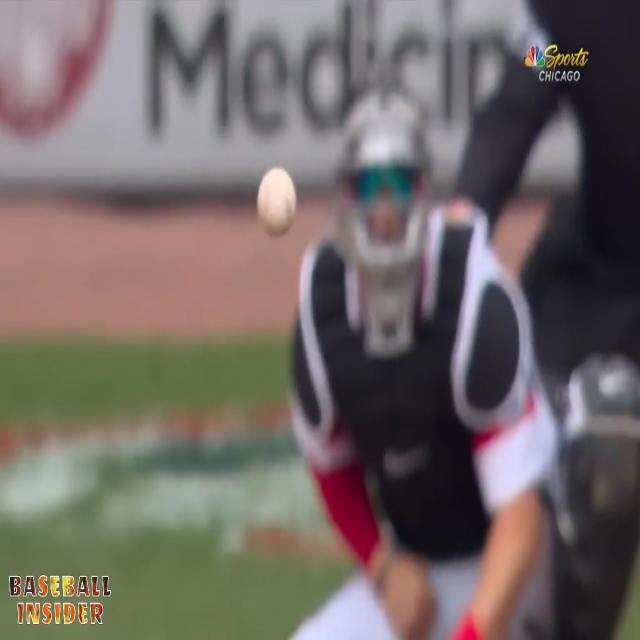baseball: (256, 165, 297, 238)
